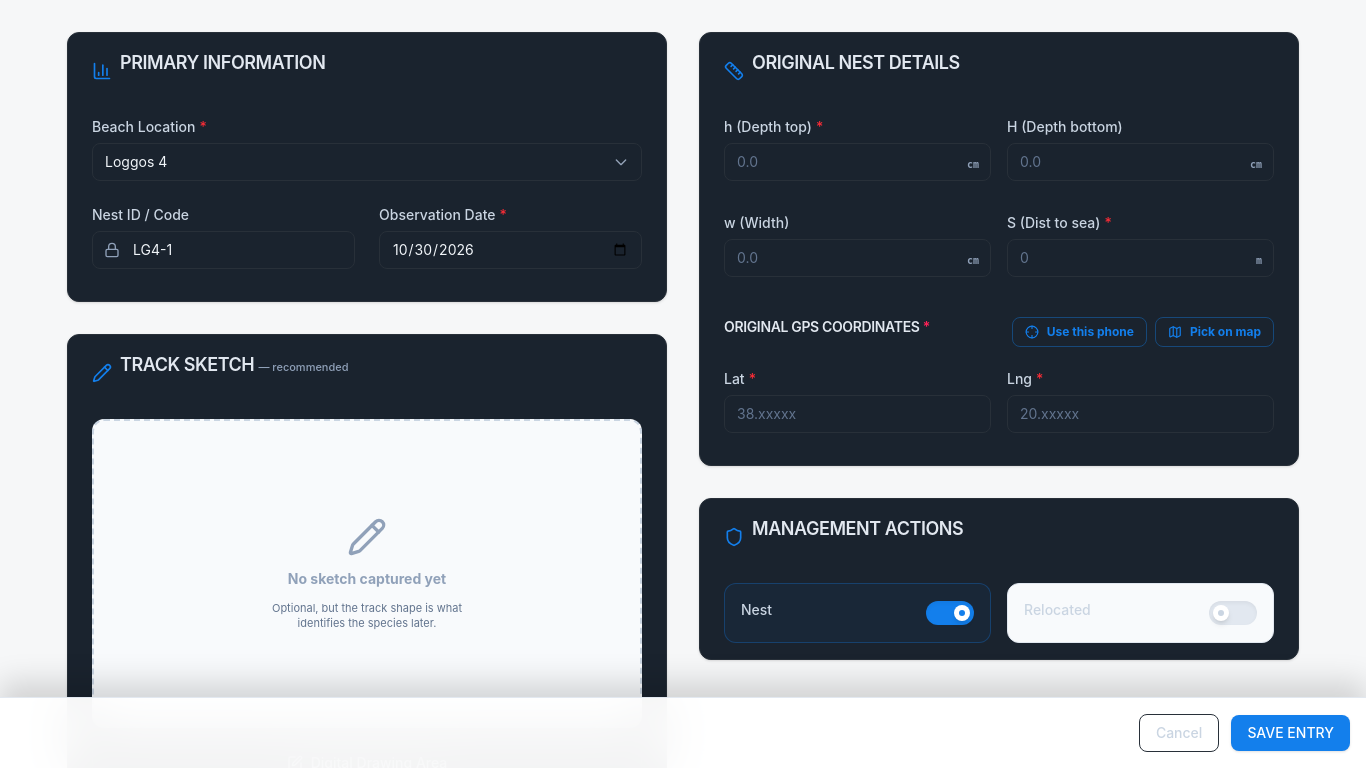
Test: NestEntry: out-of-season hint suppressed for a future date (QA-159) › still shows the out-of-season hint for a past date outside every configured season
Type "2024-01-15" into the date field labelled "Observation Date".
click(510, 250); type("2024-01-15")  # box [379,231,642,269]
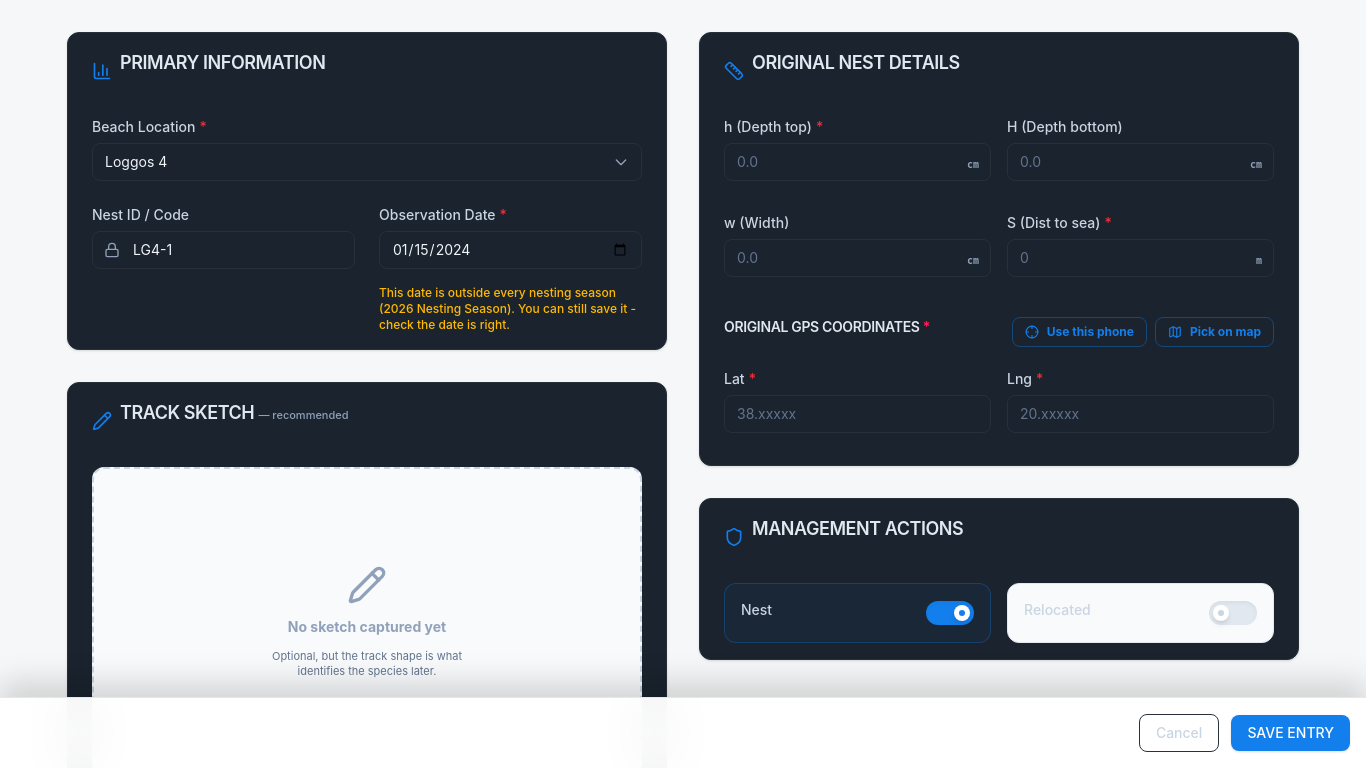
Result: the text "You can still save it" is shown at [379,285,636,332]
